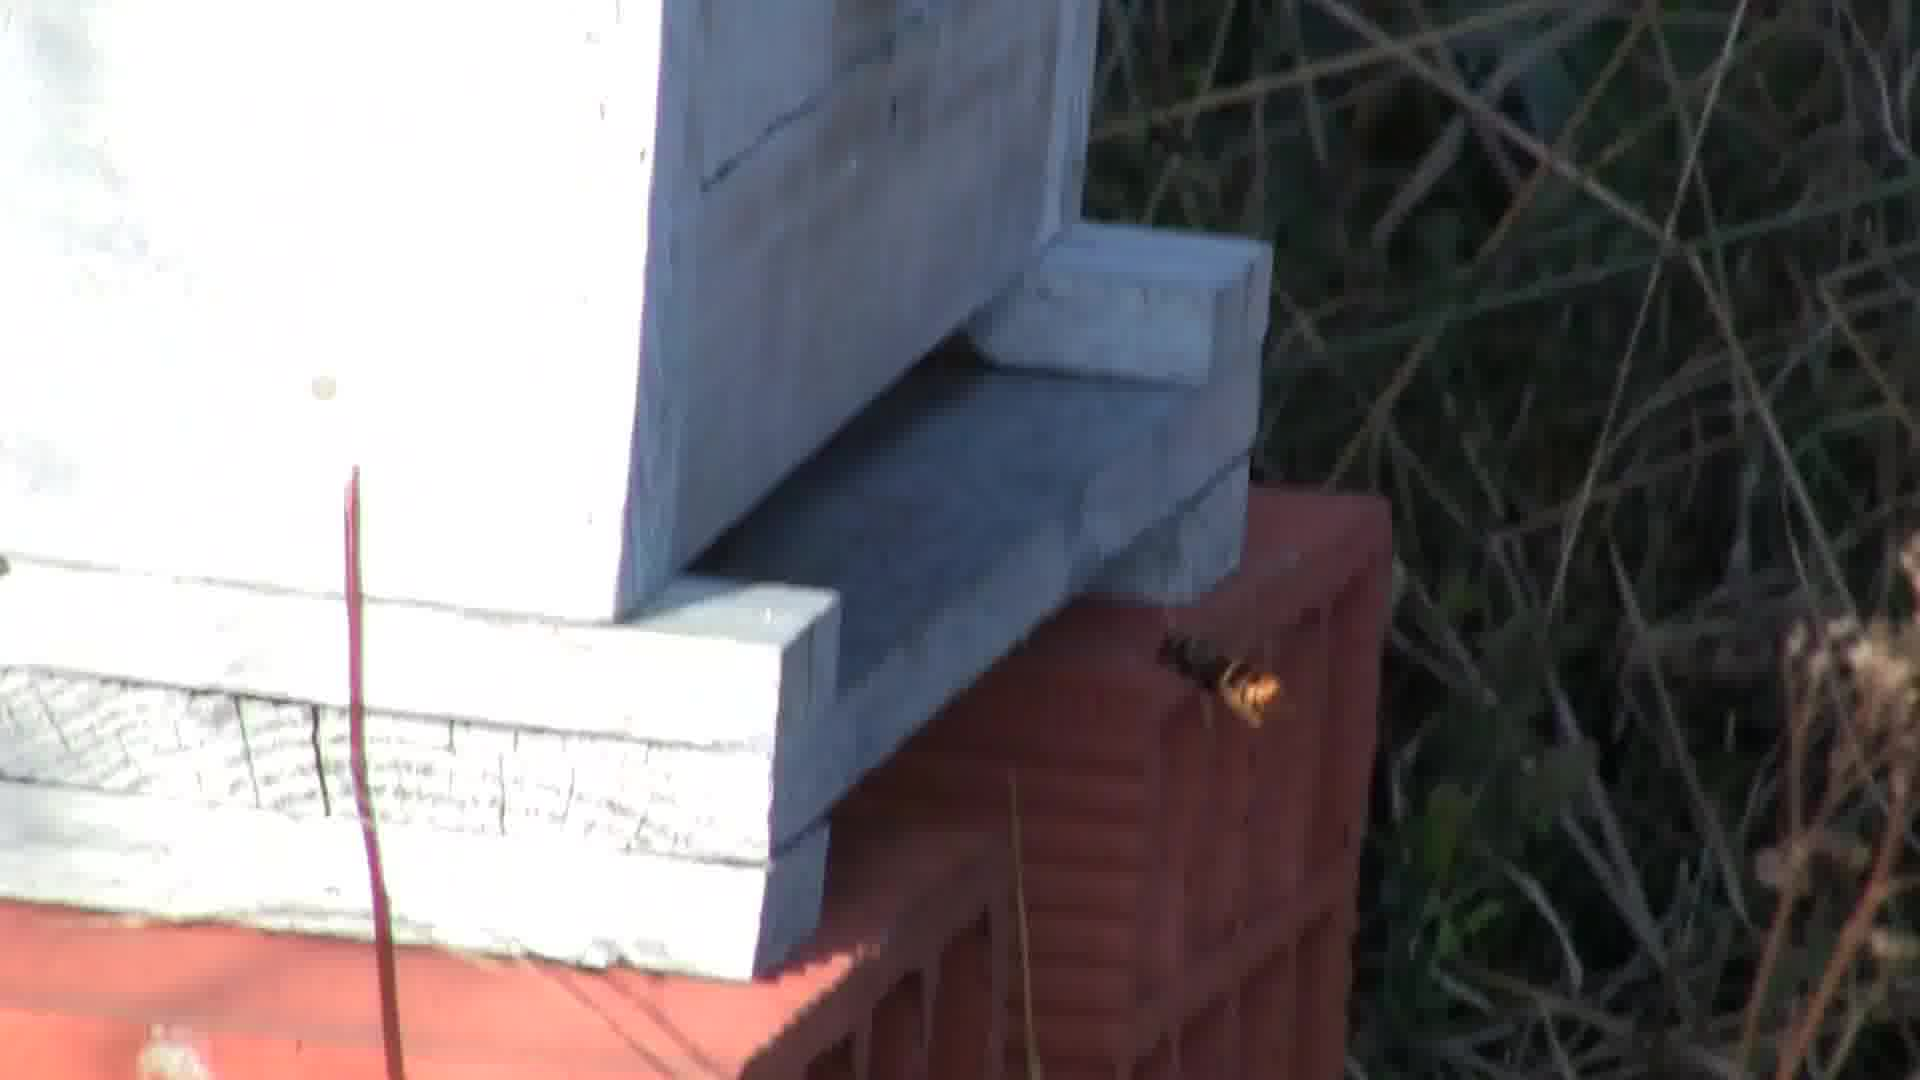hornet: (1149, 622, 1298, 744)
